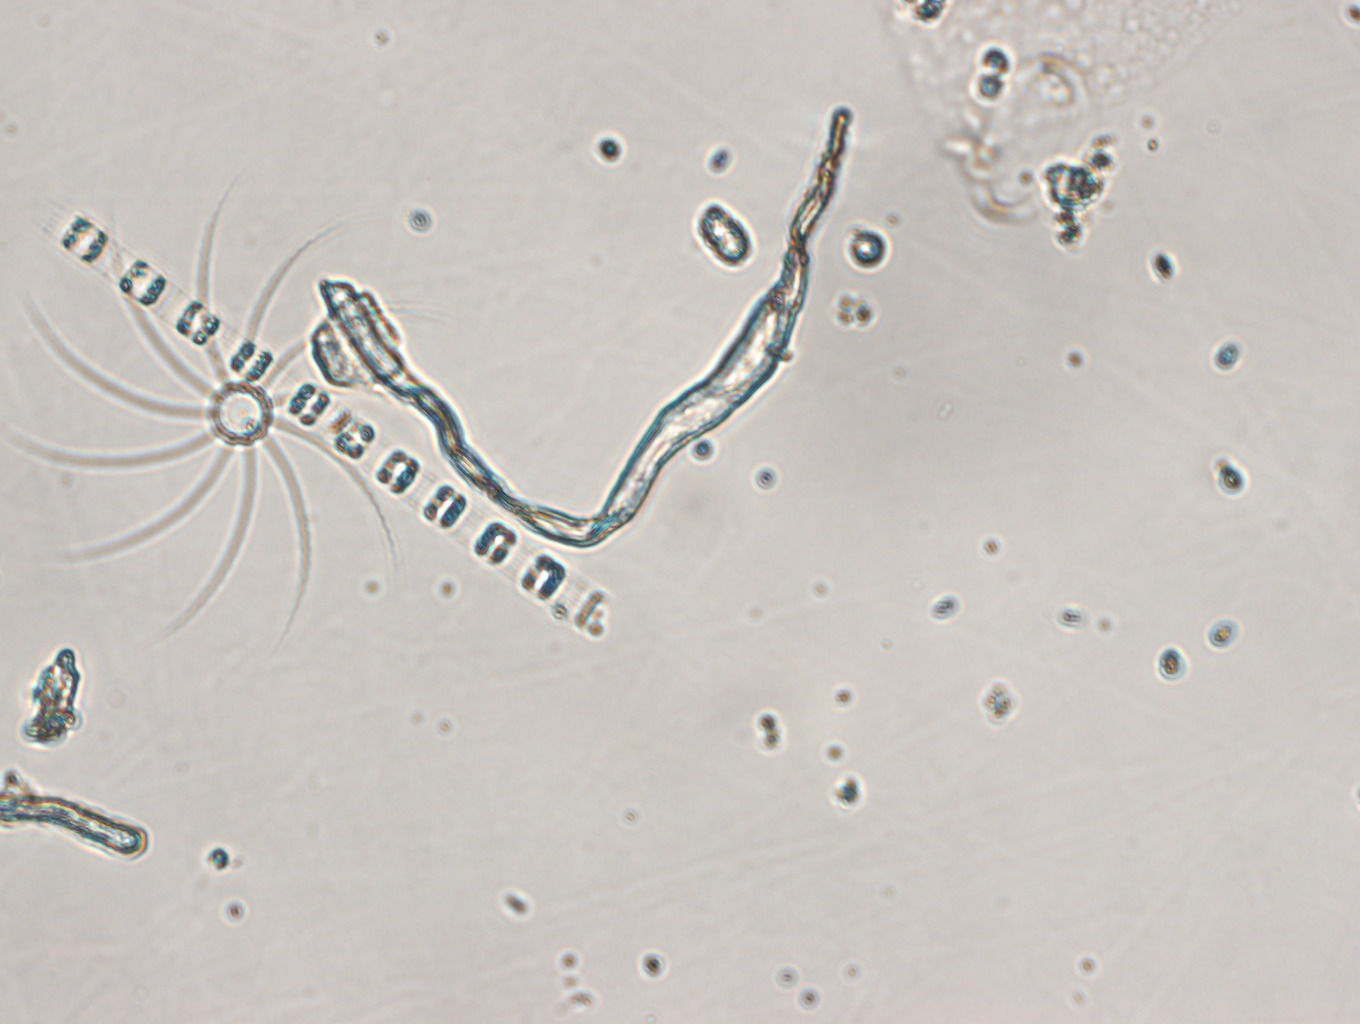bacteriastrum: (19, 234, 425, 634)
skeletonema: (40, 209, 609, 636)
